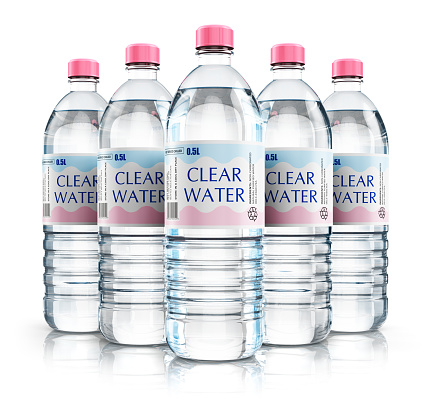bottle: (173, 16, 266, 376), (267, 18, 334, 361), (104, 31, 172, 357), (325, 49, 397, 344), (40, 41, 98, 353)
